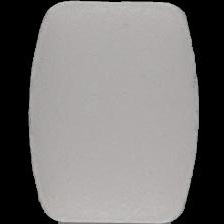64679-937: (0, 0, 224, 224)
